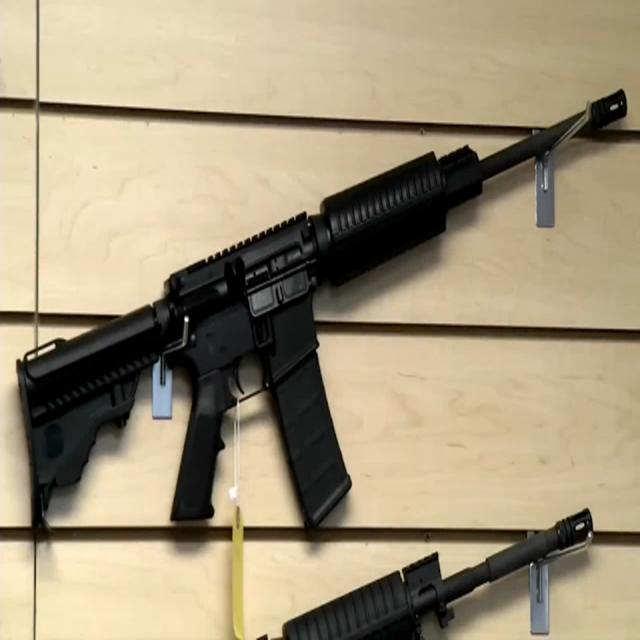Rifle: (15, 92, 630, 531), (280, 509, 594, 640)
